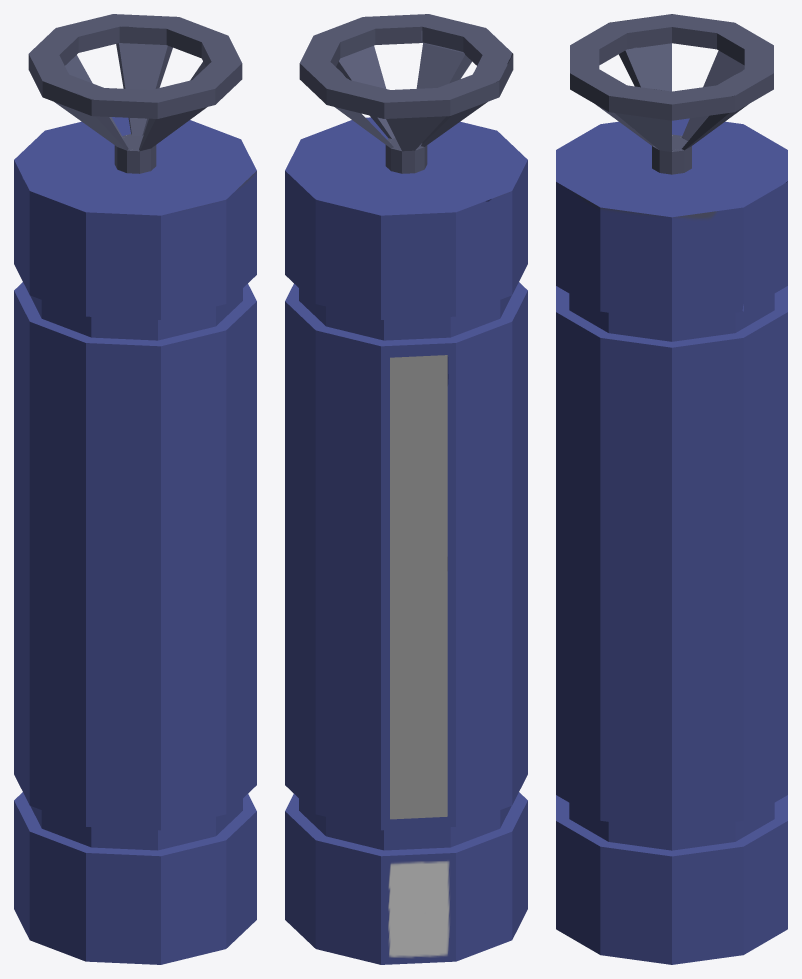
Rendered from SM_cannister_AC.fbx.
The picture shows the model from 3 angles, left to right: view 1: azimuth 30°, elevation 25°; view 2: azimuth 150°, elevation 25°; view 3: azimuth 270°, elevation 25°; orthographic projection.
Visible parts, largest first — view 1: SM_cannister_AC; view 2: SM_cannister_AC; view 3: SM_cannister_AC.
Part boxes in pixels (x1,y1,x2,y2): SM_cannister_AC: [14, 14, 256, 964]; SM_cannister_AC: [285, 14, 527, 964]; SM_cannister_AC: [556, 14, 787, 964].
Bounding box in the file's own units: 2 × 1.9 × 7.74.
